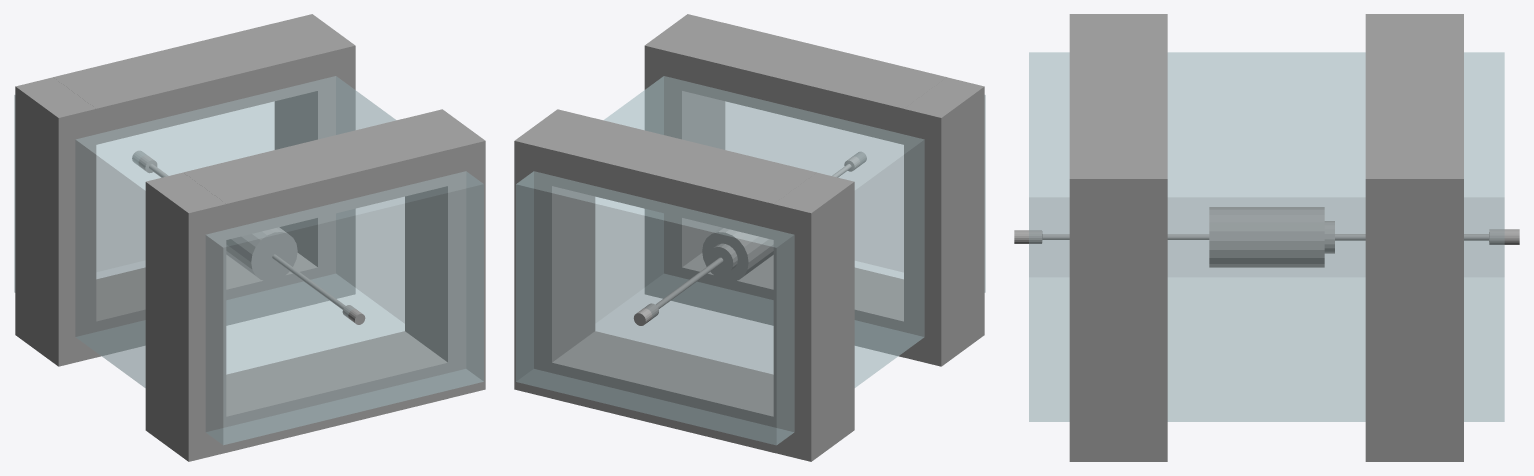
Rendered from Battery.fbx.
3 views of the same model, side by side, from view 1: azimuth 30°, elevation 25°; view 2: azimuth 150°, elevation 25°; view 3: azimuth 270°, elevation 25° (orthographic). The views are drawn at different scales.
Visible parts, largest first — view 1: group6; view 2: group6; view 3: group6.
Boxes of the visible parts, <box> form: group6: <box>14,14,485,461</box>; group6: <box>514,14,985,461</box>; group6: <box>1014,14,1519,461</box>.
Size of the model in its own units: 1.14 by 0.9123 by 1.47.
